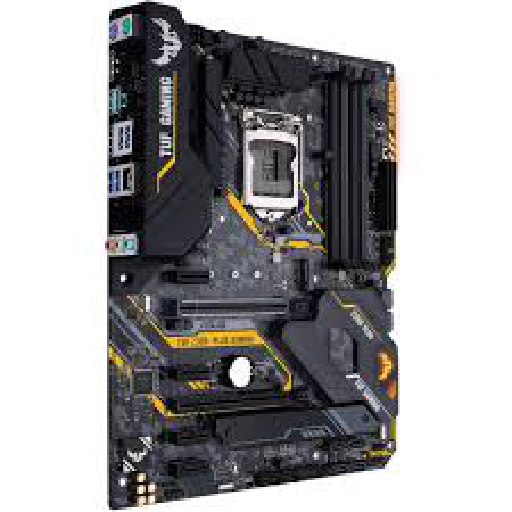CPU: (241, 128, 301, 222)
GPU: (169, 386, 314, 415), (168, 294, 312, 323)
MOTHERBOARD: (104, 4, 402, 507)
RAM: (323, 66, 377, 275)
SSD: (296, 257, 315, 291)
